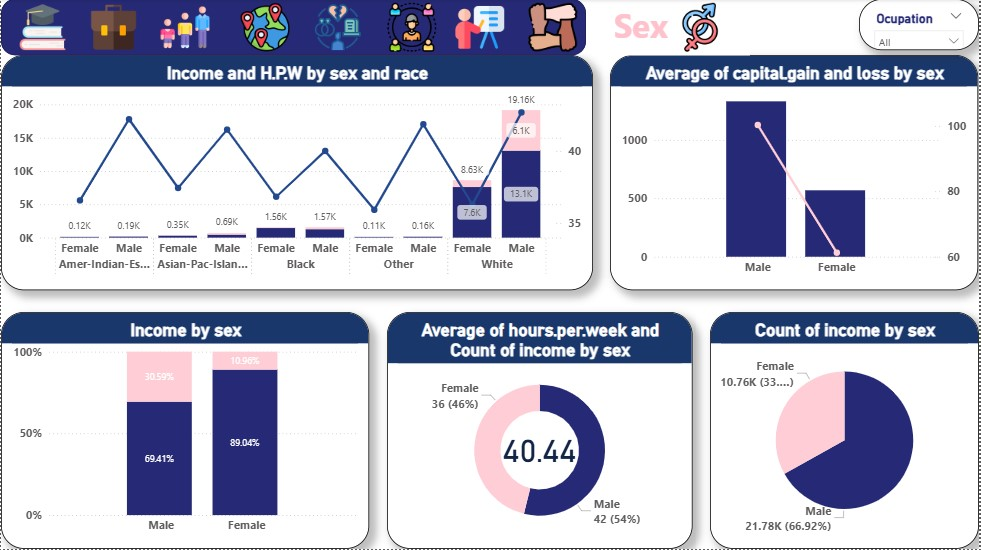

This screenshot's page, from the dashboard's own definition file:
{"tool":"powerbi","page":{"name":"sex","canvas":[1280,720],"ordinal":1},"visuals":[{"type":"lineStackedColumnComboChart","title":"Average of capital.gain and loss by sex","fields":{"Category":["DimSex.sex"],"Y":["Avg(adult_cleaned.capital.gain)"],"Y2":["Avg(adult_cleaned.capital.loss)"]},"box":[797.6,73.9,482.4,308.1],"z":0},{"type":"hundredPercentStackedColumnChart","title":"Income by sex ","fields":{"Category":["DimSex.sex"],"Series":["adult_cleaned.income"],"Y":["CountNonNull(adult_cleaned.income)"]},"box":[0,410.2,482.4,309.9],"z":1000},{"type":"donutChart","fields":{"Category":["DimSex.sex"],"Y":["Avg(adult_cleaned.hours.per.week)"]},"box":[505.3,410.2,399.7,309.9],"z":2000},{"type":"lineStackedColumnComboChart","title":"Income and H.P.W by sex and race","fields":{"Category":["DimRace.race","DimSex.sex"],"Series":["adult_cleaned.income"],"Y":["CountNonNull(adult_cleaned.income)"],"Y2":["Avg(adult_cleaned.hours.per.week)"]},"box":[0,73.9,774.7,308.1],"z":3000},{"type":"pieChart","fields":{"Category":["DimSex.sex"],"Y":["CountNonNull(adult_cleaned.income)"]},"box":[927.9,410.2,352.1,309.9],"z":4000},{"type":"card","fields":{"Values":["Avg(adult_cleaned.hours.per.week)"]},"box":[649.7,554.6,110.9,65.1],"z":5000},{"type":"shape","box":[0,0,765.9,73.9],"z":6000},{"type":"image","box":[14.1,0,79.2,73.9],"z":7000},{"type":"image","box":[107.4,0,79.2,73.9],"z":8000},{"type":"image","box":[202.5,0,75.7,73.9],"z":9000},{"type":"image","box":[308.1,0,75.7,73.9],"z":10000},{"type":"image","box":[401.4,0,77.5,73.9],"z":11000},{"type":"image","box":[498.3,0,77.5,73.9],"z":12000},{"type":"image","box":[588.1,0,77.5,73.9],"z":13000},{"type":"image","box":[683.1,0,77.5,73.9],"z":14000},{"type":"textbox","box":[797.6,0,183.1,73.9],"z":15000},{"type":"image","box":[873.3,0,84.5,73.9],"z":16000},{"type":"slicer","fields":{"Values":["DimOccupation.occupation"]},"box":[1123.3,0,156.7,66.9],"z":17000}]}

Visuals, with their boxes in screenshot pixels (x1, y1, x2, y2), scaled from the page's 1280x720 canvas onto the 981x550 screenshot:
"Average of capital.gain and loss by sex" lineStackedColumnComboChart: bbox=(611, 56, 980, 292)
"Income by sex " hundredPercentStackedColumnChart: bbox=(0, 313, 370, 549)
donutChart - DimSex.sex x Avg(adult_cleaned.hours.per.week): bbox=(387, 313, 694, 549)
"Income and H.P.W by sex and race" lineStackedColumnComboChart: bbox=(0, 56, 594, 292)
pieChart - DimSex.sex x CountNonNull(adult_cleaned.income): bbox=(711, 313, 980, 549)
card - Avg(adult_cleaned.hours.per.week): bbox=(498, 424, 583, 473)
shape: bbox=(0, 0, 587, 56)
image: bbox=(11, 0, 72, 56)
image: bbox=(82, 0, 143, 56)
image: bbox=(155, 0, 213, 56)
image: bbox=(236, 0, 294, 56)
image: bbox=(308, 0, 367, 56)
image: bbox=(382, 0, 441, 56)
image: bbox=(451, 0, 510, 56)
image: bbox=(524, 0, 583, 56)
textbox: bbox=(611, 0, 752, 56)
image: bbox=(669, 0, 734, 56)
slicer - DimOccupation.occupation: bbox=(861, 0, 980, 51)
